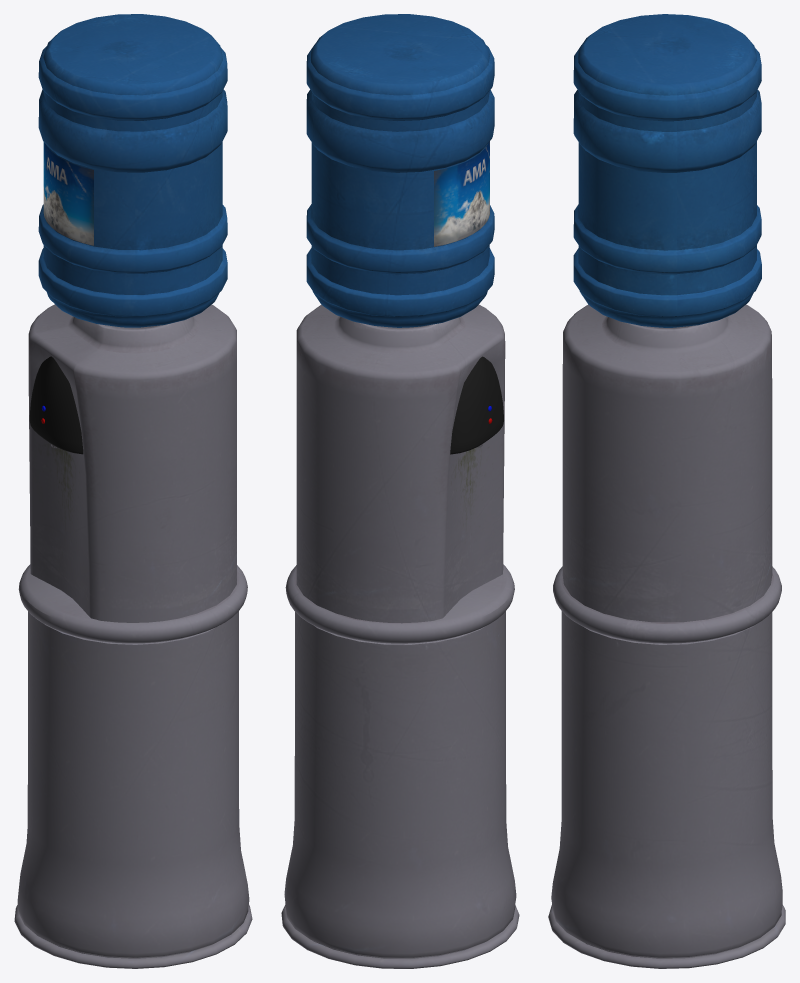
Rendered from Prop_Watery.fbx.
3 renders of one model, left to right at view 1: azimuth 30°, elevation 25°; view 2: azimuth 150°, elevation 25°; view 3: azimuth 270°, elevation 25°, orthographic.
Parts seen in each view (by area): view 1: Watery, Watery_Trans; view 2: Watery, Watery_Trans; view 3: Watery, Watery_Trans.
Boxes of the visible parts, <box> form: Watery: <box>14,142,252,968</box>; Watery_Trans: <box>38,14,227,327</box>; Watery: <box>281,141,519,968</box>; Watery_Trans: <box>306,14,494,327</box>; Watery: <box>548,304,785,968</box>; Watery_Trans: <box>573,14,761,327</box>.
Bounding box in the file's own units: 18.1 × 73.06 × 18.06.
